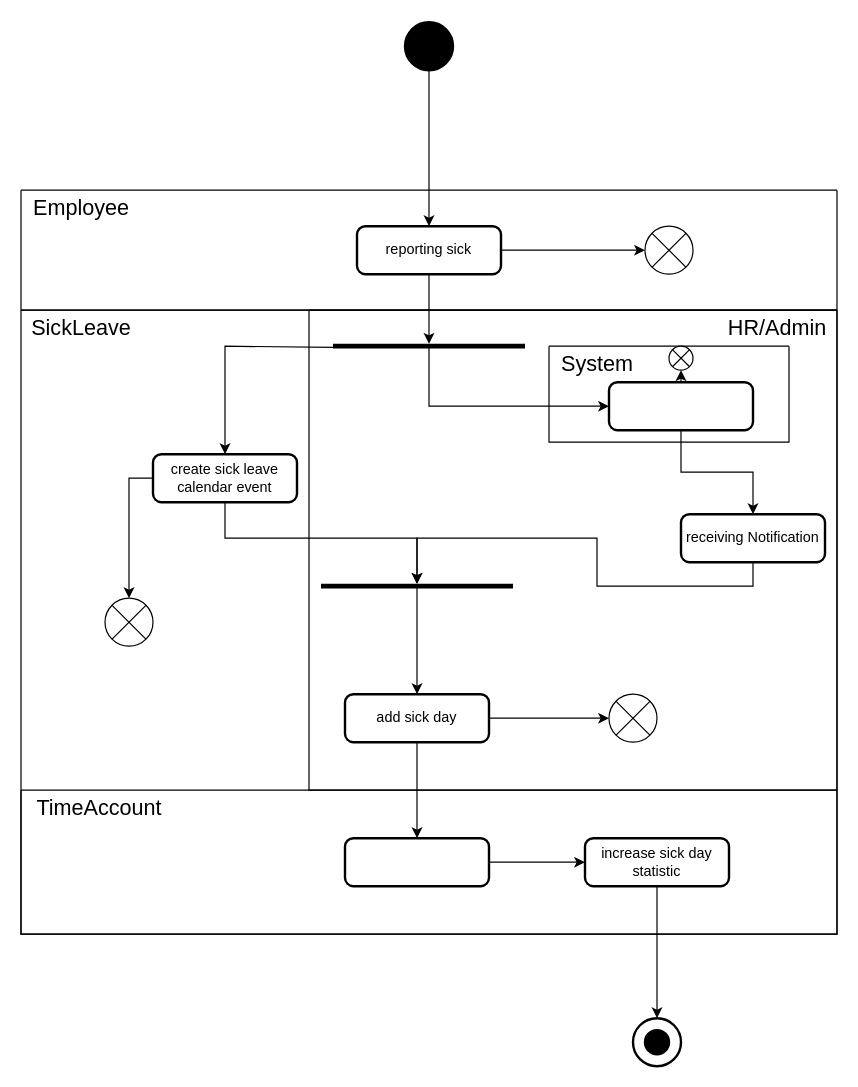
Some shapes in this 858 by 1087 pixel diagram are drawn without their labels. Each missing label, with the centre of its shape:
book sick day event: point 416,861
send notifaction: point 680,405
